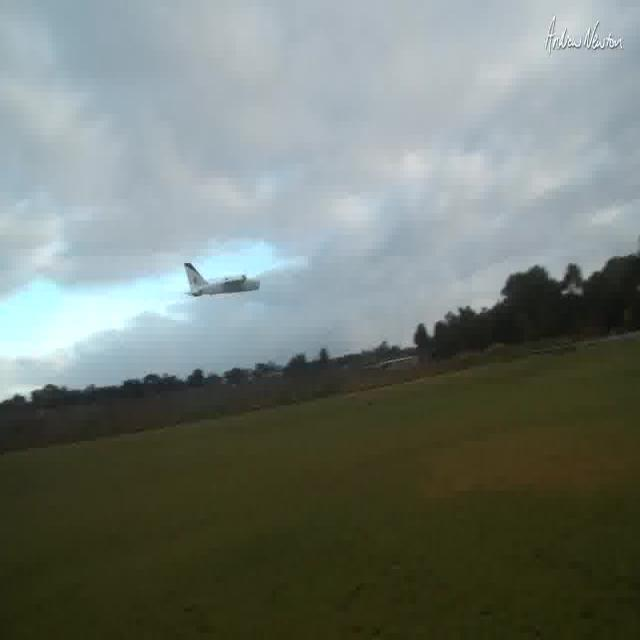iha: (199, 264, 239, 281)
